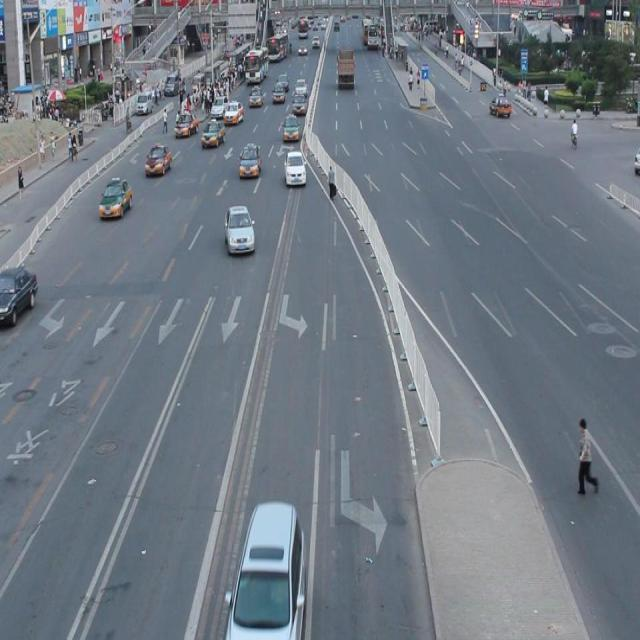car: (224, 498, 305, 640), (1, 265, 39, 326), (223, 203, 256, 257), (99, 178, 133, 219), (145, 143, 172, 177), (282, 148, 306, 186), (238, 142, 262, 180)
